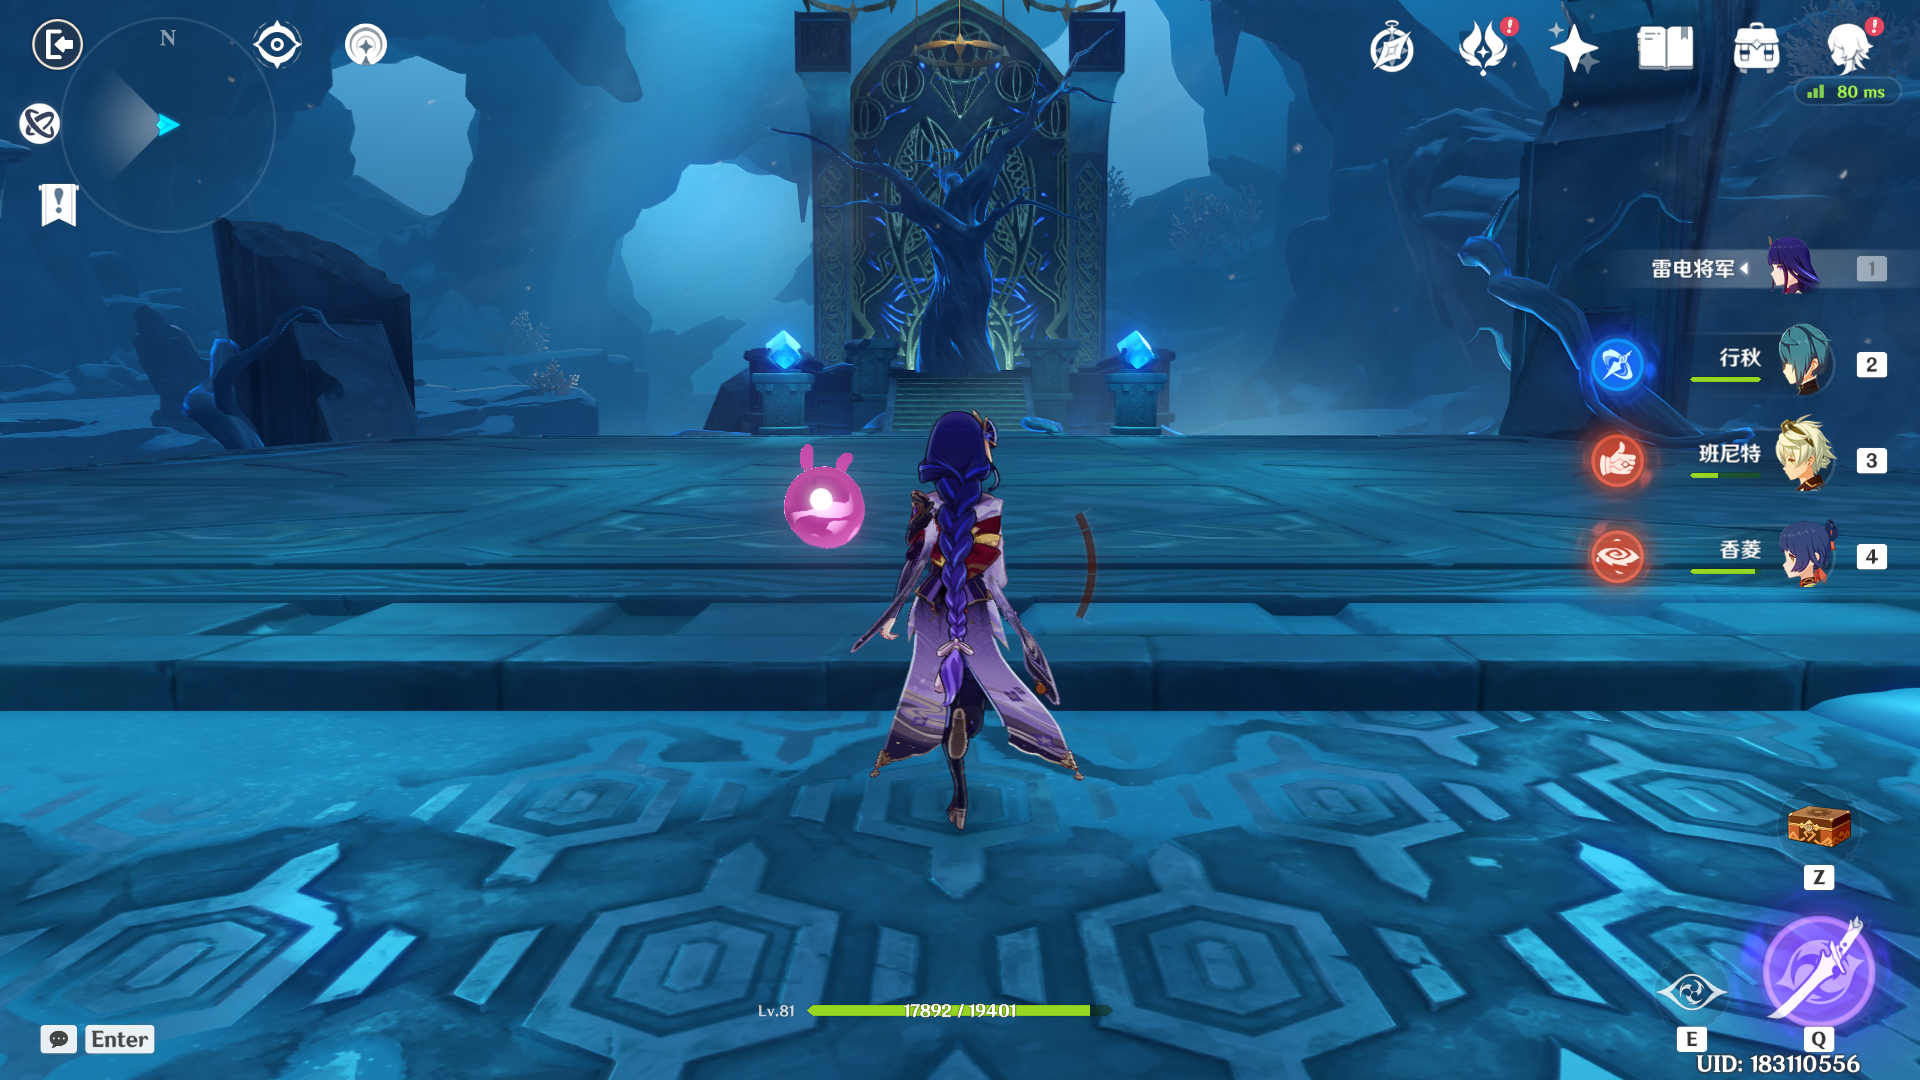character: (840, 385, 1112, 855)
